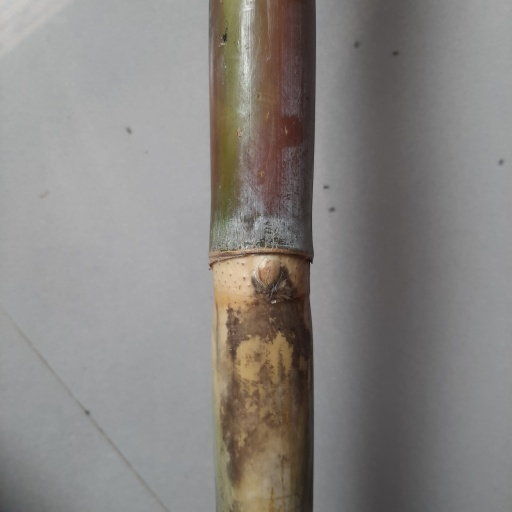Bud: (256, 255, 279, 290)
